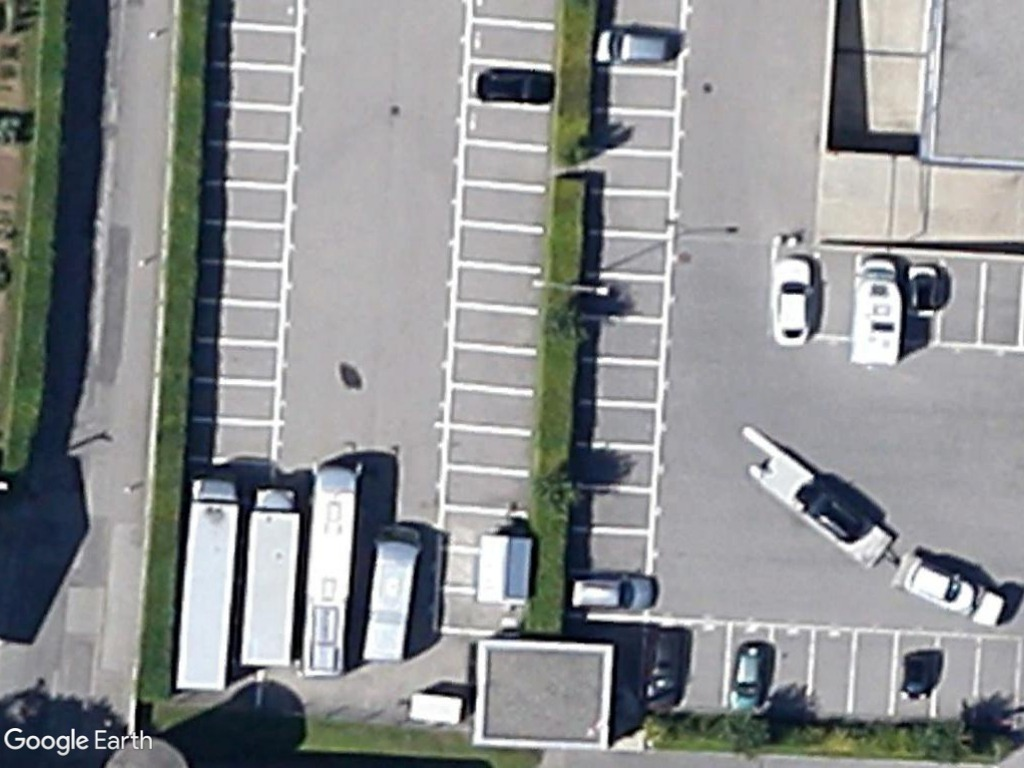bus: (287, 454, 371, 682)
car: (770, 253, 818, 353), (563, 570, 663, 616), (589, 24, 686, 68), (725, 633, 773, 719)
truck: (170, 467, 240, 700), (234, 479, 307, 675)
